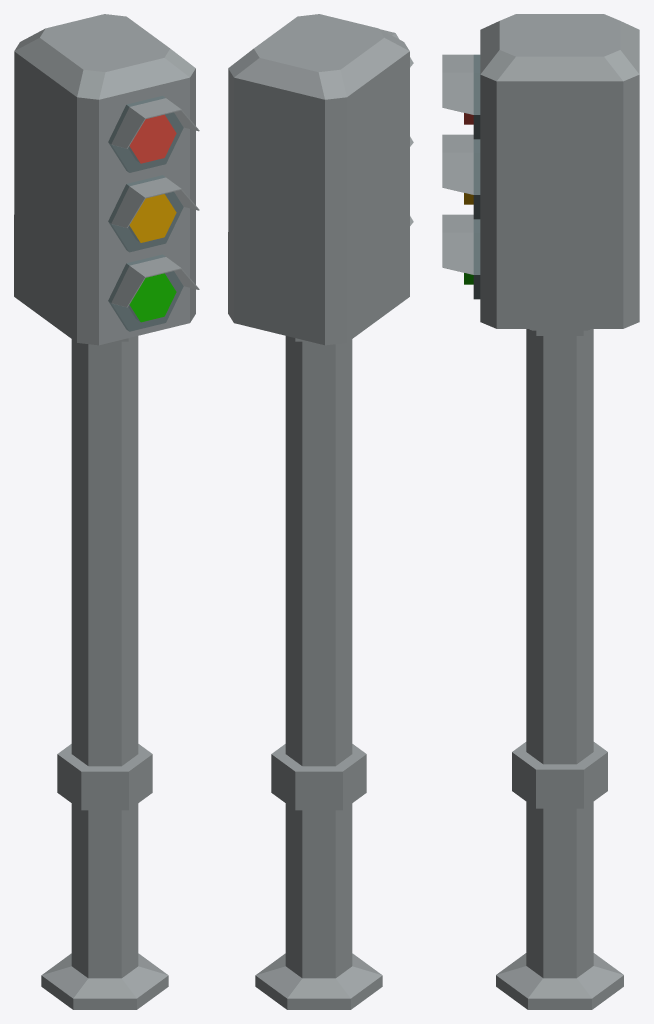
File: traffic_01.fbx
The picture shows the model from 3 angles, left to right: view 1: azimuth 30°, elevation 25°; view 2: azimuth 150°, elevation 25°; view 3: azimuth 270°, elevation 25°; orthographic projection.
Parts seen in each view (by area): view 1: Cylinder, Cylinder.001, Cylinder.002, Cylinder.009; view 2: Cylinder.001, Cylinder; view 3: Cylinder, Cylinder.001, Cylinder.009, Cylinder.002.
Boxes of the visible parts, x1,y1,x2,y2 form: Cylinder: (41,336,168,1009); Cylinder.001: (14,14,195,345); Cylinder.002: (108,95,183,331); Cylinder.009: (111,98,199,307); Cylinder.001: (228,14,409,345); Cylinder: (255,336,382,1009); Cylinder: (496,329,623,1009); Cylinder.001: (480,14,639,328); Cylinder.009: (442,54,473,274); Cylinder.002: (464,54,480,299).
Size of the model in its own units: 65.85 by 500 by 93.9.
